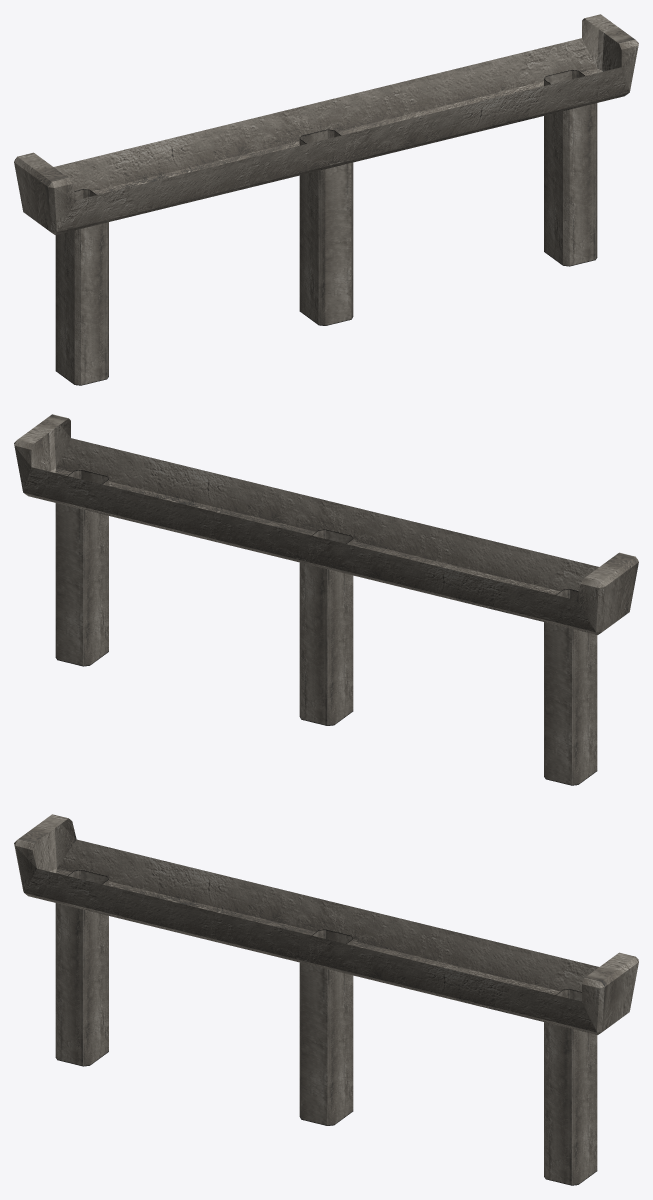
File: highway_support.fbx
3 renders of one model, top to bottom at view 1: azimuth 30°, elevation 25°; view 2: azimuth 150°, elevation 25°; view 3: azimuth 330°, elevation 25°, orthographic.
Visible parts, largest first — view 1: highway_support; view 2: highway_support; view 3: highway_support.
Boxes of the visible parts, x1,y1,x2,y2 form: highway_support: (14,14,638,385); highway_support: (14,414,638,785); highway_support: (14,814,638,1185).
Size of the model in its own units: 4293 by 1500 by 500.
